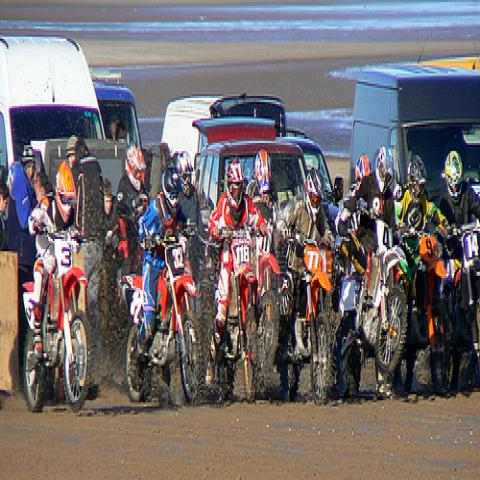car: (196, 122, 309, 198), (280, 127, 344, 222), (91, 70, 143, 145)
motorcycle: (337, 193, 415, 400), (117, 243, 206, 409), (22, 224, 96, 413), (220, 224, 282, 403), (283, 232, 333, 407), (415, 220, 455, 404), (331, 227, 369, 373), (448, 227, 479, 392), (256, 229, 279, 315)
truck: (348, 35, 479, 200), (1, 33, 106, 183), (163, 87, 288, 163)
